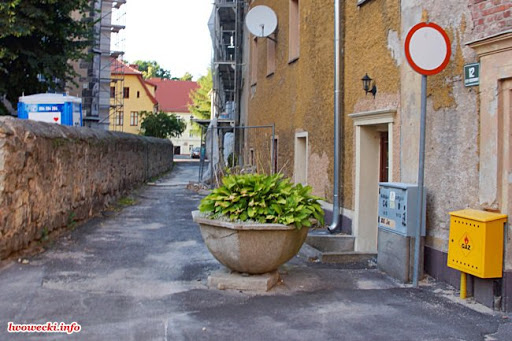no_entry_sign: (404, 20, 452, 76)
